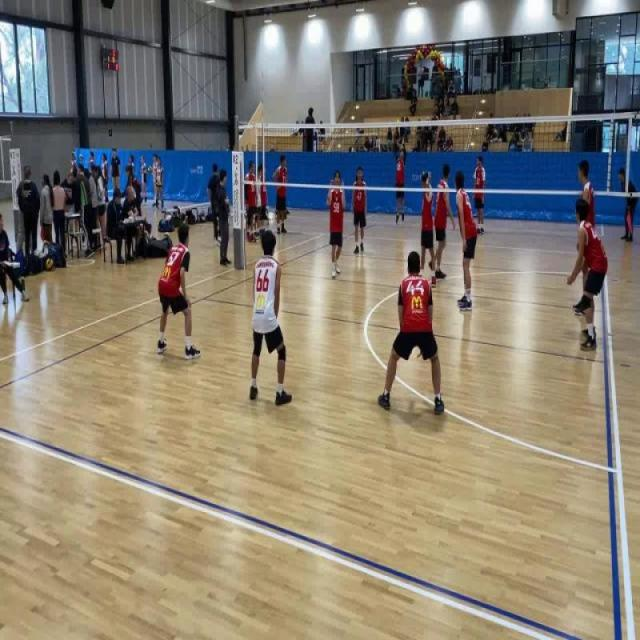volleyball: (46, 259, 54, 271), (148, 166, 152, 173), (80, 154, 84, 160), (395, 118, 400, 121)
